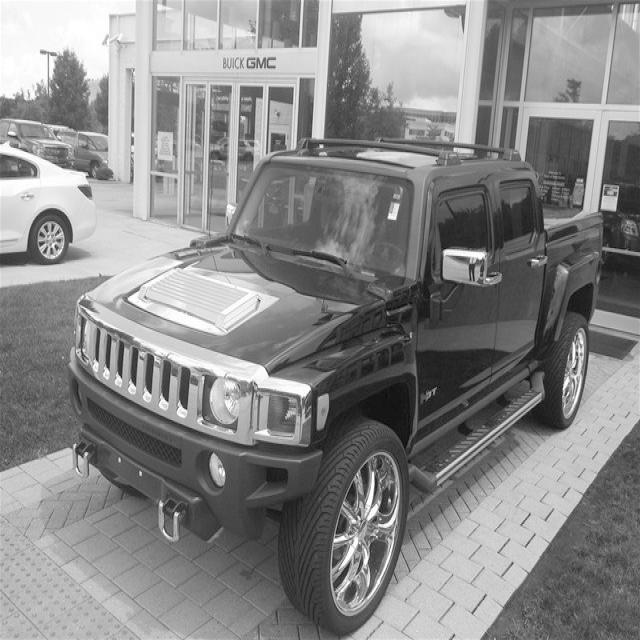car: (67, 135, 604, 636)
